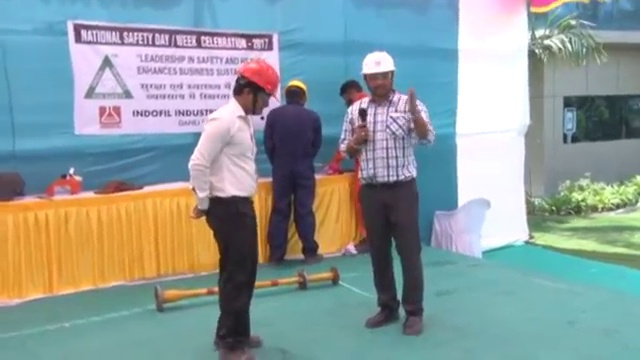helmet: (240, 58, 282, 105), (359, 50, 398, 77), (284, 78, 309, 98)
helmet_off: (340, 79, 374, 108)
helmet_on: (231, 57, 283, 121), (360, 49, 398, 106), (281, 75, 310, 109)
person: (189, 57, 282, 359), (338, 49, 435, 338), (266, 73, 327, 264)
